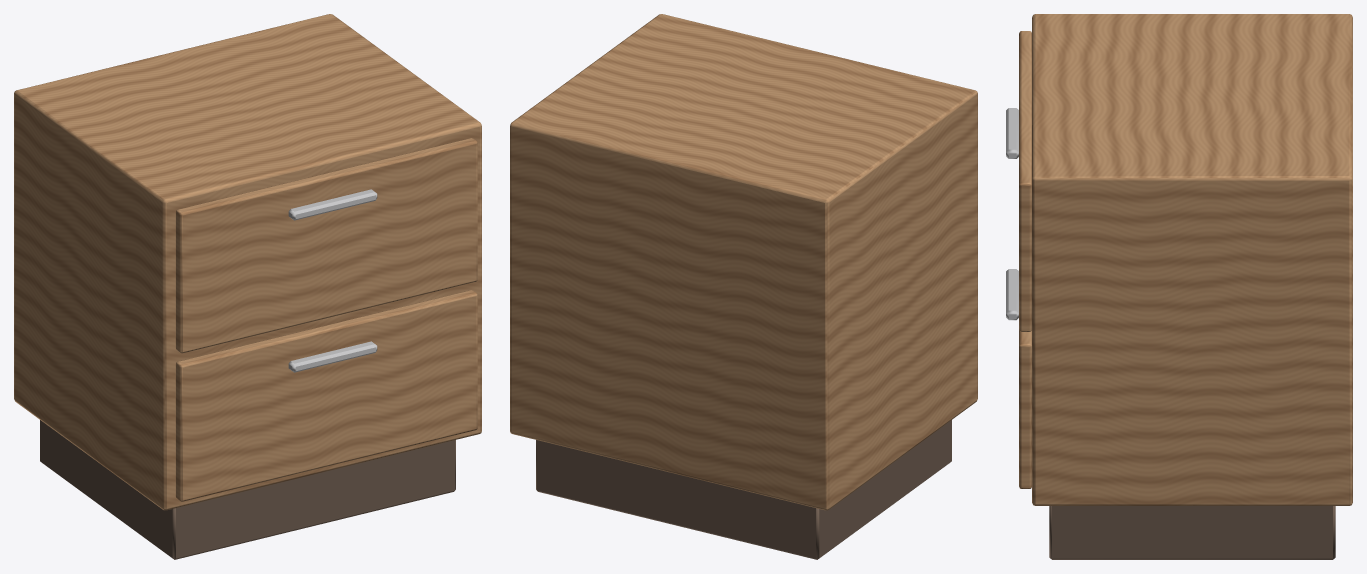
Rendered from nightstand-45.raw.glb.
3 renders of one model, left to right at view 1: azimuth 30°, elevation 25°; view 2: azimuth 150°, elevation 25°; view 3: azimuth 270°, elevation 25°, orthographic. The views are drawn at different scales.
Visible parts, largest first — view 1: nightstand-45; view 2: nightstand-45; view 3: nightstand-45.
Part boxes in pixels (x1,y1,x2,y2): nightstand-45: (14, 14, 481, 559); nightstand-45: (510, 14, 977, 559); nightstand-45: (1006, 14, 1352, 559).
Bounding box in the file's own units: 0.45 × 0.5 × 0.4.
3 materials, 1 textured.
